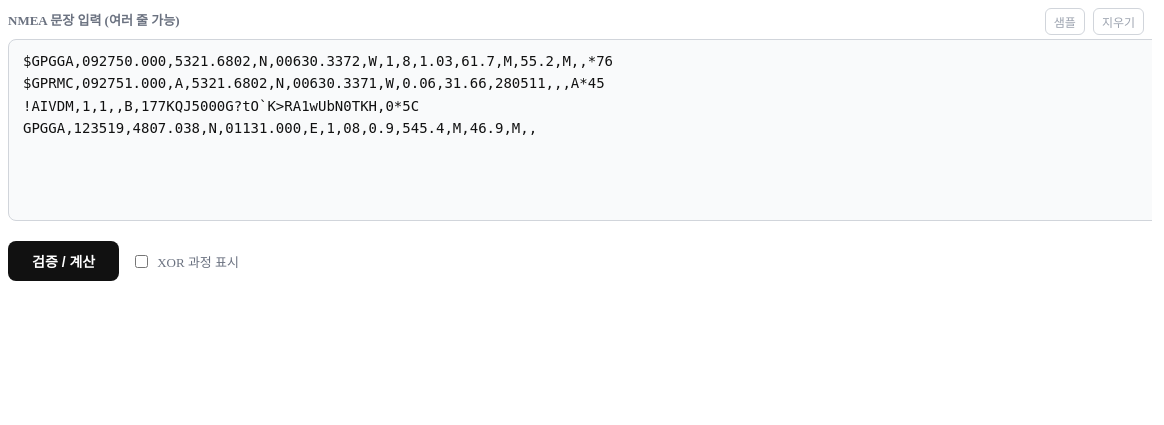
Scenario: NmeaChecksum › 유효 문장 입력 시 계산 체크섬 + ✅ 렌더
The image size is (1164, 425).
Replace the text in the text box with "$GPGGA,092750.000,5321.6802,N,00630.3372,W,1,8,1.03,61.7,M,55.2,M,,*76": coordinates (580, 130) [8, 39, 1152, 221]
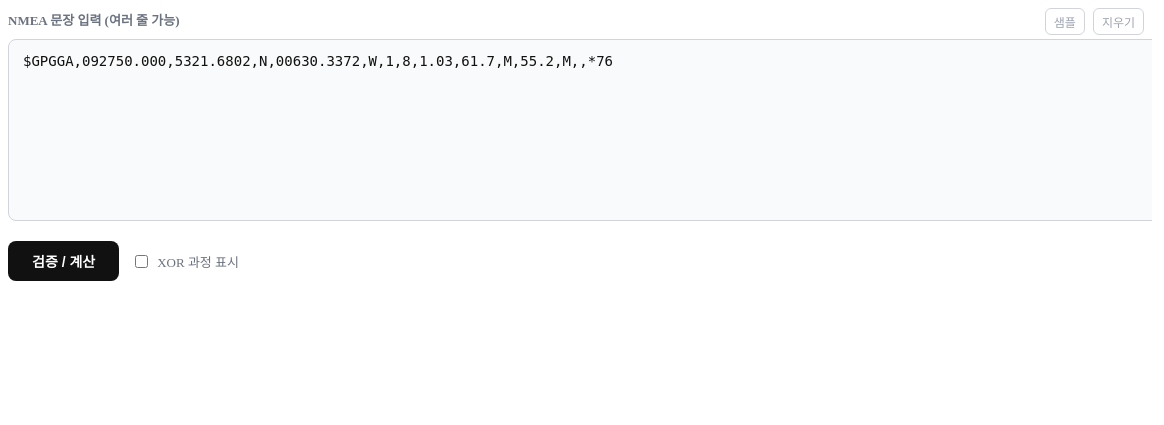
Click the button "검증 / 계산": coordinates (64, 261) [8, 241, 119, 281]
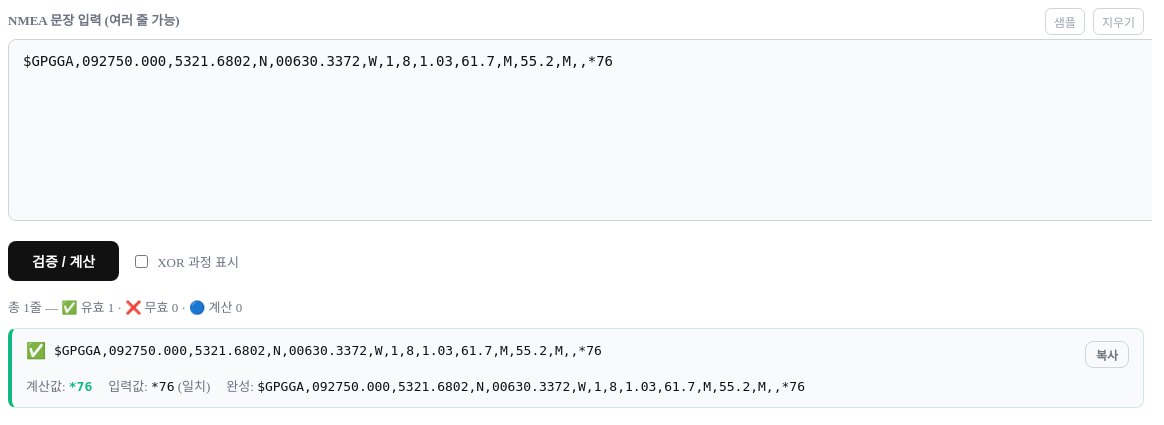
Expected: the text "✅" is shown, [26, 341, 46, 360]
